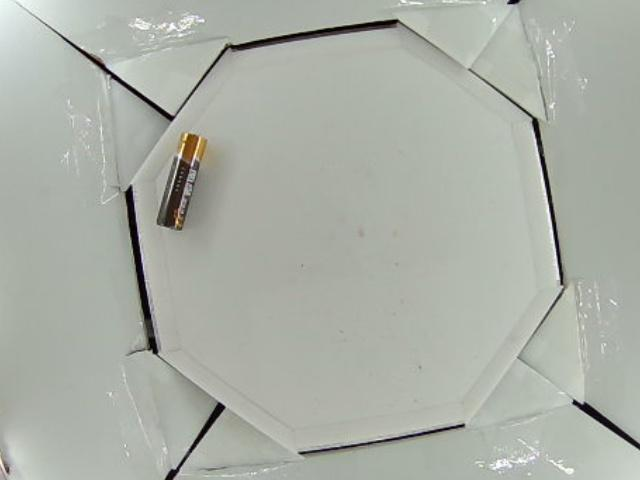Battery: (154, 131, 210, 228)
